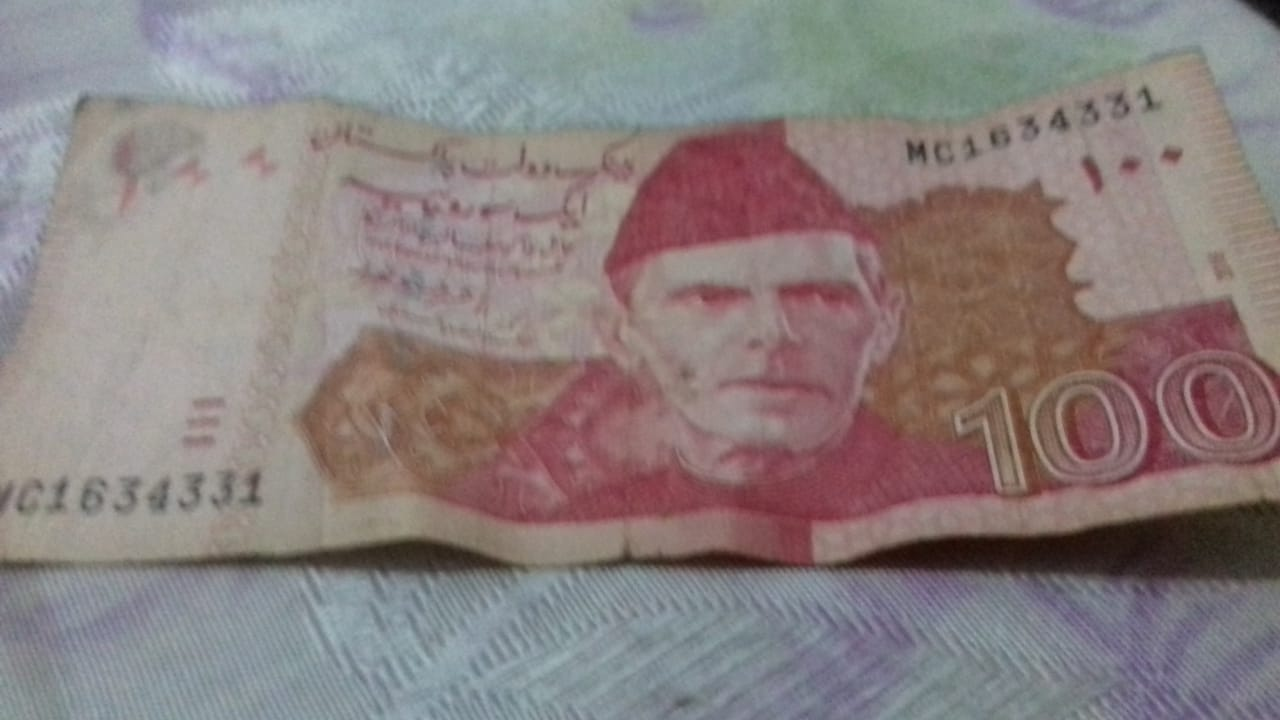100 rupee: (6, 48, 1272, 570)
